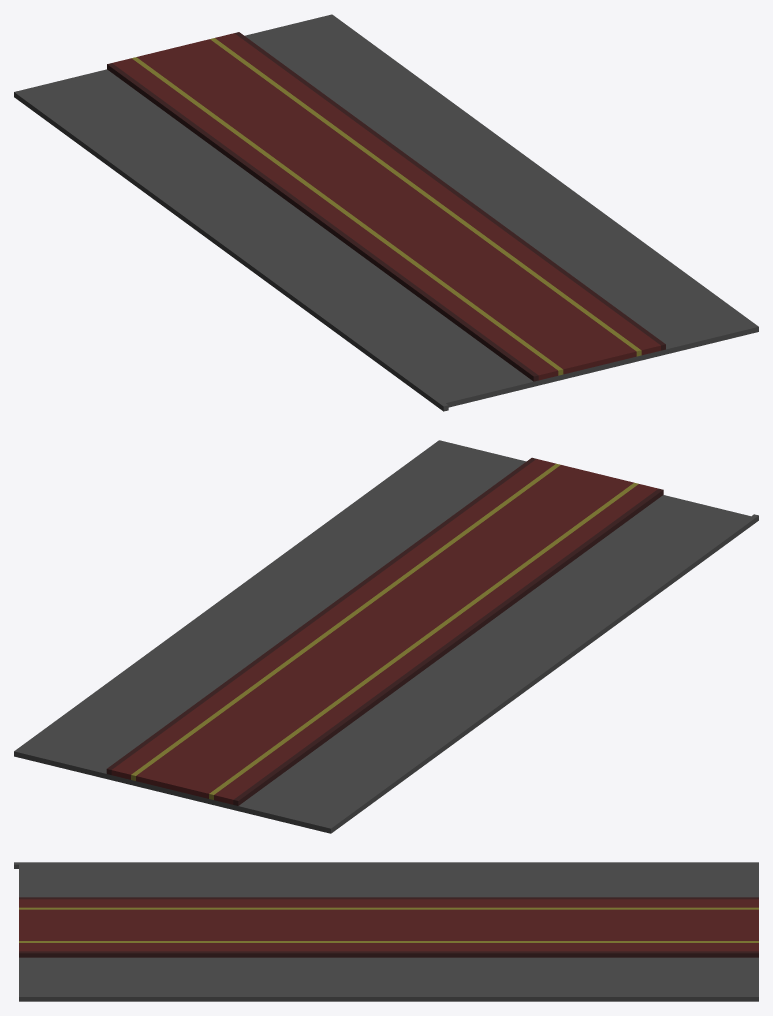
The model's file is castle_caelyra_hall-8-floor - carpet.obj.
3 views of the same model, one above another, from view 1: azimuth 30°, elevation 25°; view 2: azimuth 150°, elevation 25°; view 3: azimuth 270°, elevation 25° (orthographic). The views are drawn at different scales.
Visible parts, largest first — view 1: floor - carpet; view 2: floor - carpet; view 3: floor - carpet.
Boxes of the visible parts, bbox=[...] form: floor - carpet: bbox=[14, 14, 758, 411]; floor - carpet: bbox=[14, 440, 758, 833]; floor - carpet: bbox=[14, 862, 758, 1001].
Bounding box in the file's own units: 6.5 × 0.2 × 15.2.
1 material, 1 textured.
